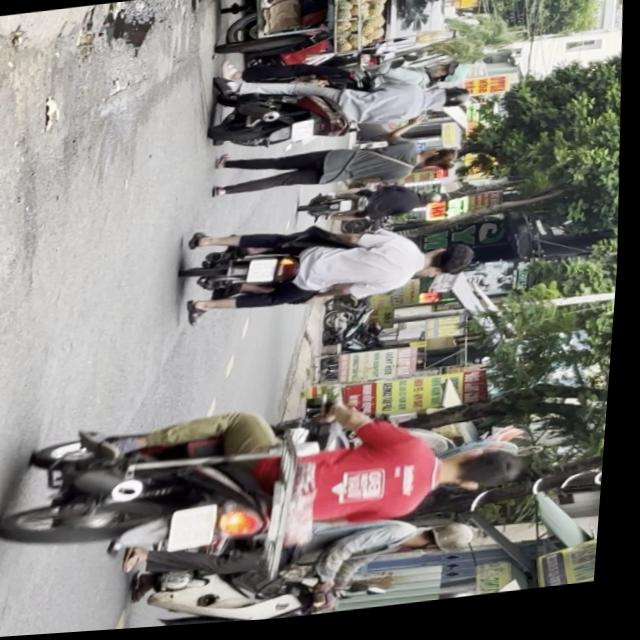helmet: (423, 526, 486, 565), (427, 66, 474, 94), (434, 93, 476, 118)
licenseplate: (0, 380, 541, 582), (127, 506, 492, 631), (177, 209, 488, 331), (208, 60, 482, 160)
motorcyclist: (442, 451, 533, 504), (421, 248, 480, 281)
nohelmet: (177, 511, 227, 555), (249, 261, 282, 289), (293, 124, 317, 146)
